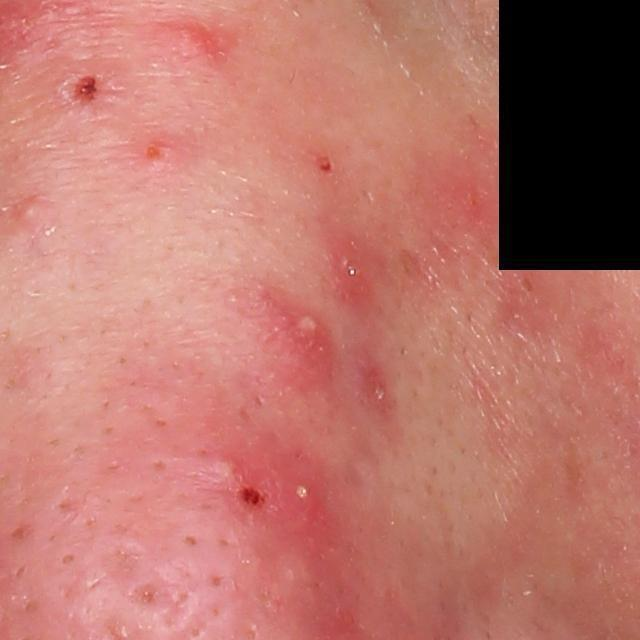comedo: (13, 195, 47, 230), (59, 549, 78, 567)
papule: (329, 230, 375, 304), (196, 443, 256, 497), (56, 68, 119, 111), (230, 481, 280, 525), (172, 20, 212, 59), (137, 136, 178, 168)
pustule: (261, 293, 331, 380), (283, 466, 332, 517)
